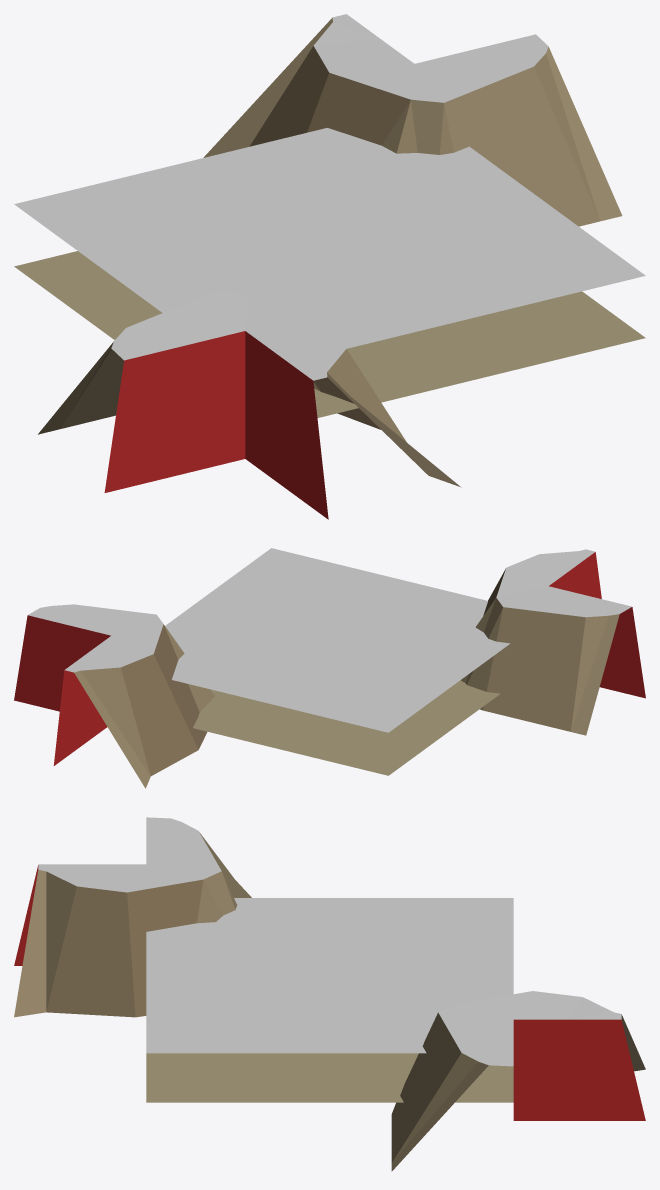
The model's file is Model_Undead_River_4W_2GTRBL.fbx.
3 renders of one model, top to bottom at view 1: azimuth 30°, elevation 25°; view 2: azimuth 150°, elevation 25°; view 3: azimuth 270°, elevation 25°, orthographic. The views are drawn at different scales.
Parts seen in each view (by area): view 1: Model_Frost_Rivers14; view 2: Model_Frost_Rivers14; view 3: Model_Frost_Rivers14.
Boxes of the visible parts, bbox=[...] form: Model_Frost_Rivers14: bbox=[14, 14, 645, 519]; Model_Frost_Rivers14: bbox=[14, 548, 645, 788]; Model_Frost_Rivers14: bbox=[14, 817, 645, 1171].
Bounding box in the file's own units: 341 × 61.13 × 344.
